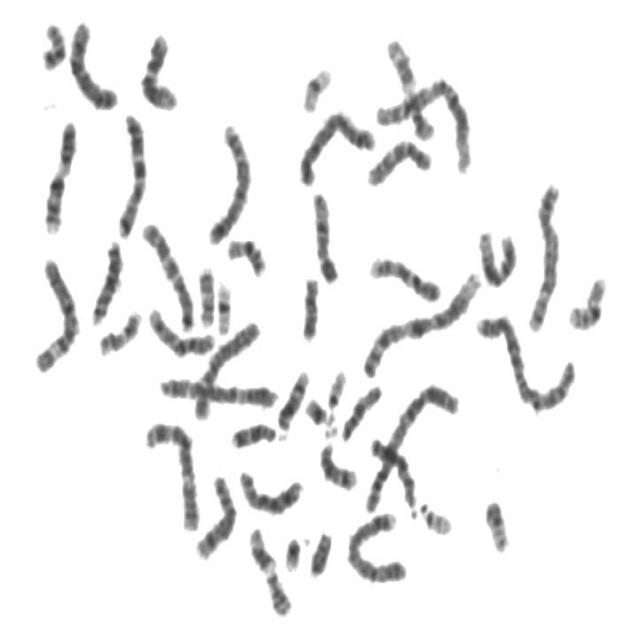A1: (356, 263, 484, 379), (372, 69, 475, 177)
A2: (359, 376, 462, 515), (469, 304, 578, 414)
A3: (140, 412, 202, 532), (154, 367, 280, 410)
B4: (293, 100, 377, 188), (342, 504, 410, 586)
B5: (202, 115, 254, 247), (522, 173, 564, 335)
C10: (142, 298, 218, 358), (360, 130, 434, 189)
C11: (381, 29, 437, 142), (244, 519, 294, 619)
C12: (136, 24, 181, 111), (473, 220, 520, 289)
C6: (187, 310, 263, 424), (28, 248, 81, 376)
C7: (137, 212, 196, 332), (112, 104, 149, 241)
C8: (190, 466, 239, 562), (233, 461, 304, 518)
C9: (37, 111, 80, 236), (364, 247, 444, 304)
D13: (365, 428, 421, 518), (85, 231, 124, 327)
D14: (272, 362, 312, 435), (314, 434, 360, 492)
D15: (307, 183, 341, 285), (336, 376, 384, 442)
E16: (563, 267, 609, 332), (221, 229, 269, 278)
E17: (93, 302, 144, 357), (194, 258, 218, 329)
E18: (225, 413, 279, 451), (296, 268, 322, 344)
F19: (296, 58, 334, 114), (212, 273, 234, 336)
F20: (480, 492, 512, 554), (36, 12, 68, 73)
G21: (300, 389, 338, 430), (278, 528, 304, 573)
G22: (414, 494, 454, 538), (322, 361, 349, 411)
X: (64, 11, 121, 113)
Y: (304, 522, 334, 580)
